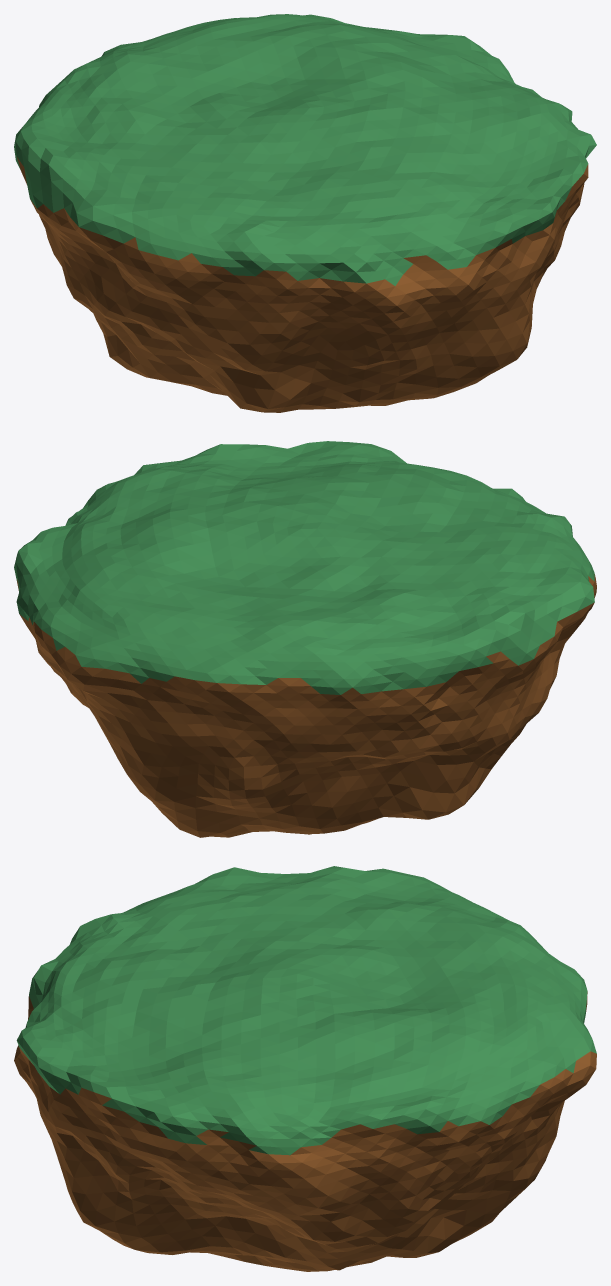
Rendered from forest_island_8fbx.fbx.
The picture shows the model from 3 angles, top to bottom: view 1: azimuth 30°, elevation 25°; view 2: azimuth 150°, elevation 25°; view 3: azimuth 270°, elevation 25°; orthographic projection.
Parts seen in each view (by area): view 1: Icosphere.022; view 2: Icosphere.022; view 3: Icosphere.022.
Part boxes in pixels (bbox=[...]): Icosphere.022: bbox=[14, 14, 596, 412]; Icosphere.022: bbox=[14, 441, 596, 837]; Icosphere.022: bbox=[14, 866, 596, 1271].
Size of the model in its own units: 4854 by 2539 by 4850.
